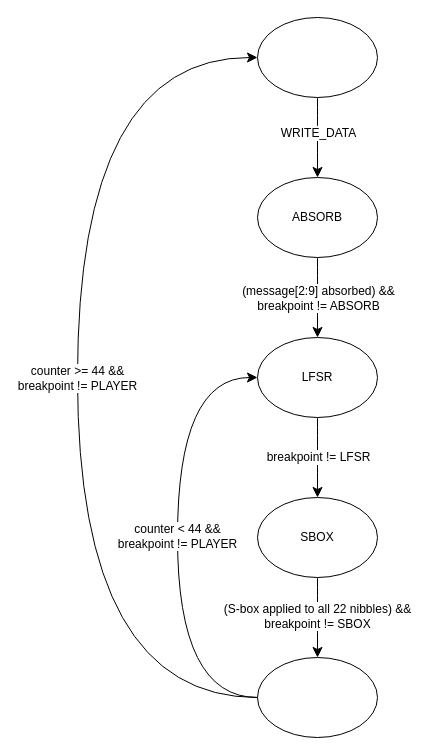
This 428x755 diagram has some shape labels left out. The centre of each missing label's shape, as x and y in pixels:
"IDLE" belongs at point 317,57.
"PLAYER" belongs at point 317,697.
